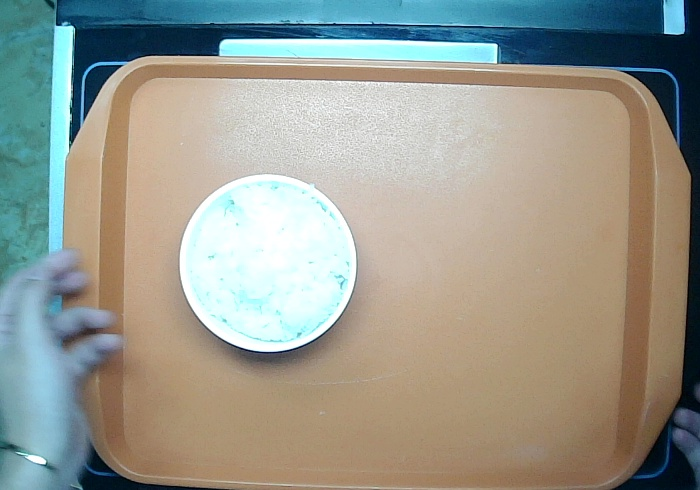HZYJPL-Fan_Wan: (172, 168, 366, 365)
